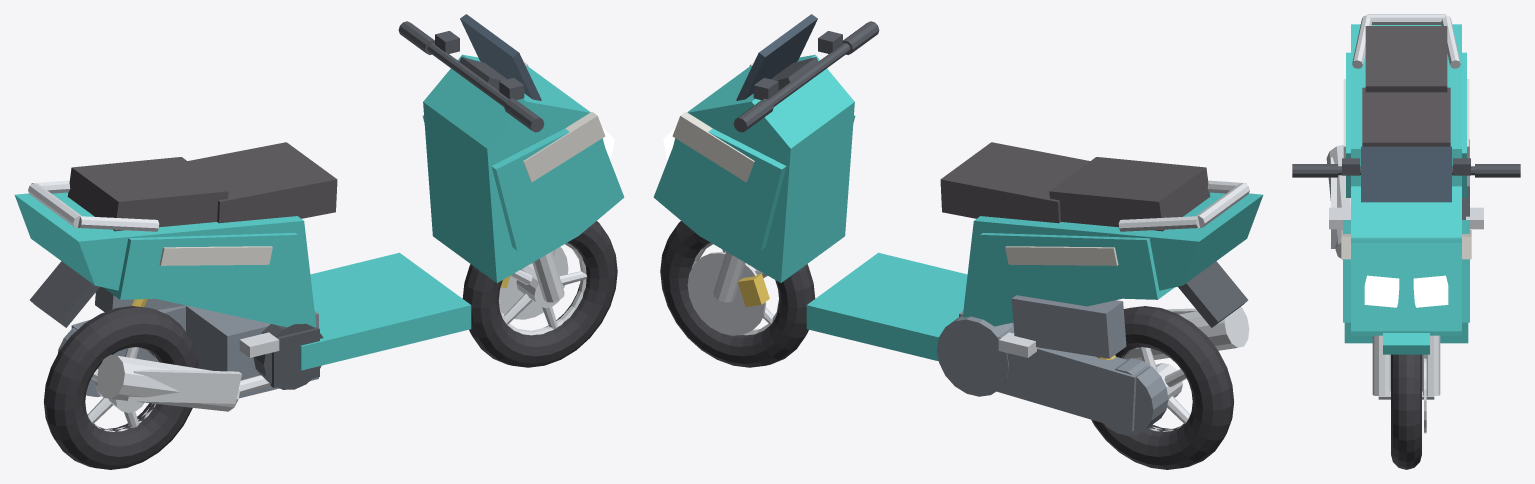
Rendered from yamaha-fazzio-hybrid-connected-2022-2026.glb.
The picture shows the model from 3 angles, left to right: view 1: azimuth 30°, elevation 25°; view 2: azimuth 150°, elevation 25°; view 3: azimuth 270°, elevation 25°; orthographic projection. The views are drawn at different scales.
Visible parts, largest first — view 1: Bodi_Utama, Roda_Ban, Jok_Motor, Cover_Knalpot, Aksen_Bodi, Mesin_Blok, Master_Rem_Stang, Velg_Roda, Cover_Radiator, Spakbor_Belakang, Windshield_Visor, Behel_Jok (+4 smaller); view 2: Bodi_Utama, Cover_CVT, Roda_Ban, Jok_Motor, Aksen_Bodi, Master_Rem_Stang, Piringan_Depan, Spakbor_Belakang, Windshield_Visor, Behel_Jok, Cover_Knalpot, Velg_Roda (+3 smaller); view 3: Bodi_Utama, Jok_Motor, Windshield_Visor, Roda_Ban, Lampu_Depan, Master_Rem_Stang, Suspensi_Depan, Behel_Jok, Cover_Knalpot, Spakbor_Depan, Aksen_Bodi, Footstep_Belakang (+1 smaller).
Boxes of the visible parts, x1,y1,x2,y2 form: Bodi_Utama: (14,54,624,370); Roda_Ban: (44,221,617,469); Jok_Motor: (67,142,337,231); Cover_Knalpot: (97,354,270,411); Aksen_Bodi: (159,61,605,265); Mesin_Blok: (186,305,318,398); Master_Rem_Stang: (398,21,544,132); Velg_Roda: (87,243,587,431); Cover_Radiator: (253,323,323,389); Spakbor_Belakang: (30,261,99,327); Windshield_Visor: (460,14,541,100); Behel_Jok: (28,180,159,231); Bodi_Utama: (653,54,1263,361); Cover_CVT: (937,295,1168,435); Roda_Ban: (660,221,1233,469); Jok_Motor: (940,142,1210,231); Aksen_Bodi: (672,61,1118,265); Master_Rem_Stang: (733,21,879,132); Piringan_Depan: (687,252,766,335); Spakbor_Belakang: (1178,261,1247,327); Windshield_Visor: (736,14,817,100); Behel_Jok: (1118,180,1249,231); Cover_Knalpot: (1123,307,1249,360); Velg_Roda: (692,243,1190,431); Bodi_Utama: (1343,24,1469,343); Jok_Motor: (1362,26,1450,146); Windshield_Visor: (1361,146,1451,202); Roda_Ban: (1391,354,1421,469); Lampu_Depan: (1364,275,1448,307); Master_Rem_Stang: (1292,158,1520,177); Suspensi_Depan: (1372,335,1440,399); Behel_Jok: (1352,14,1460,68); Cover_Knalpot: (1326,145,1350,259); Spakbor_Depan: (1383,333,1429,354); Aksen_Bodi: (1341,79,1471,259); Footstep_Belakang: (1329,207,1483,229).
Size of the model in its own units: 1.75 by 1 by 0.7.
